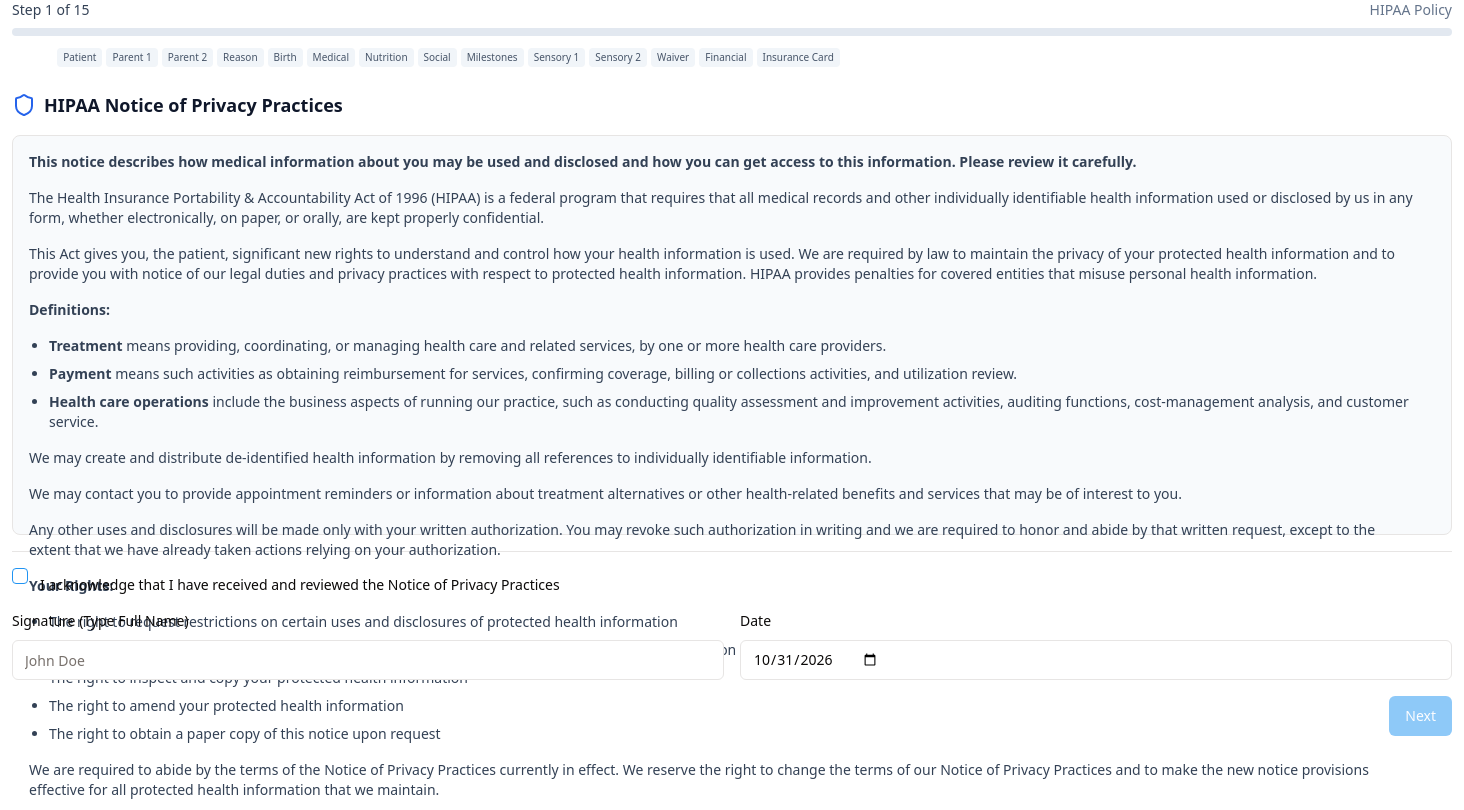
Test case: PatientIntakeForm › defaults the SMS consent checkbox to unchecked, with disclosure text visible
Click the checkbox: (20, 576) [12,568,28,584]
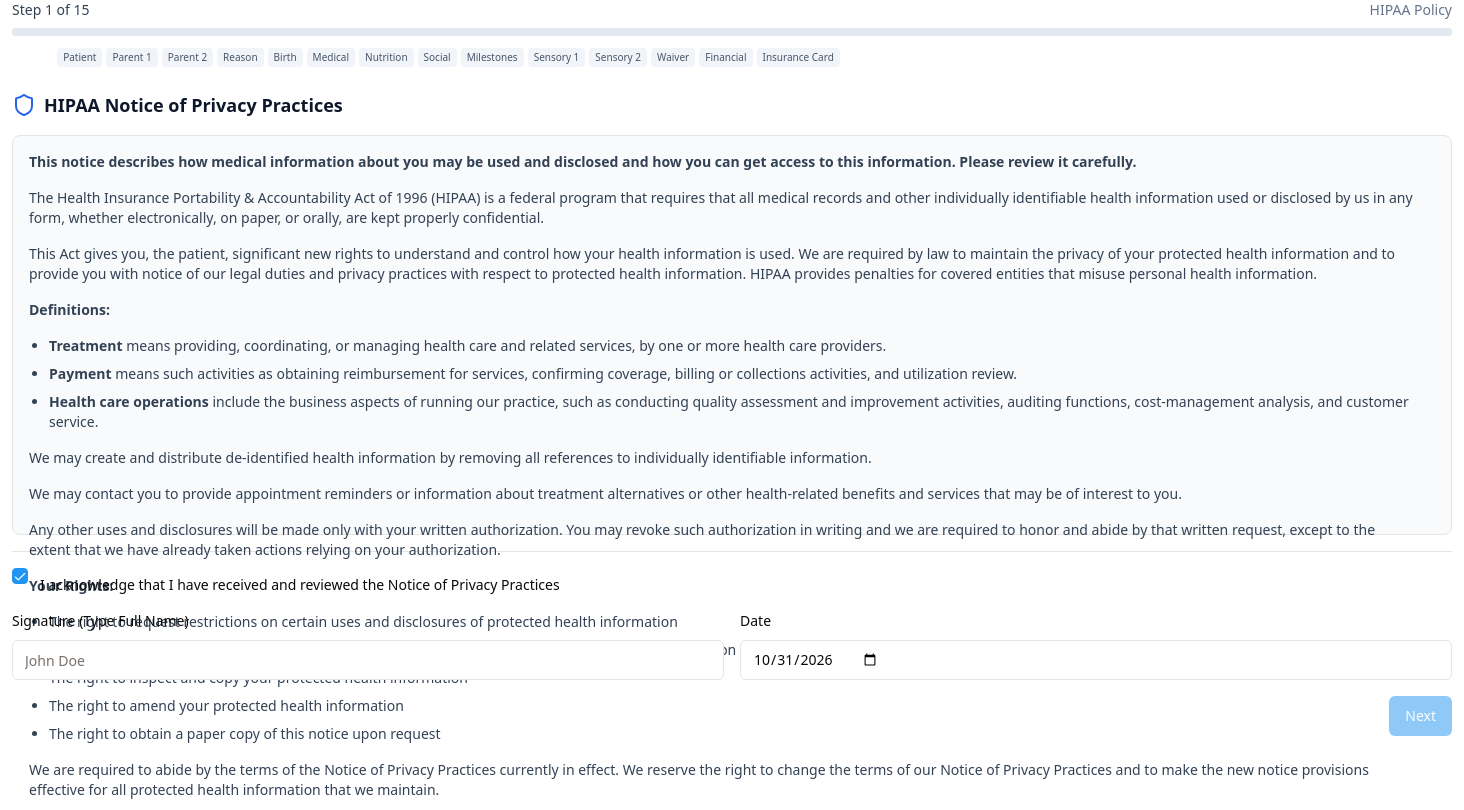
In the field with placeholder "John Doe": (368, 660) [12,640,724,680], type "Jane Smith"
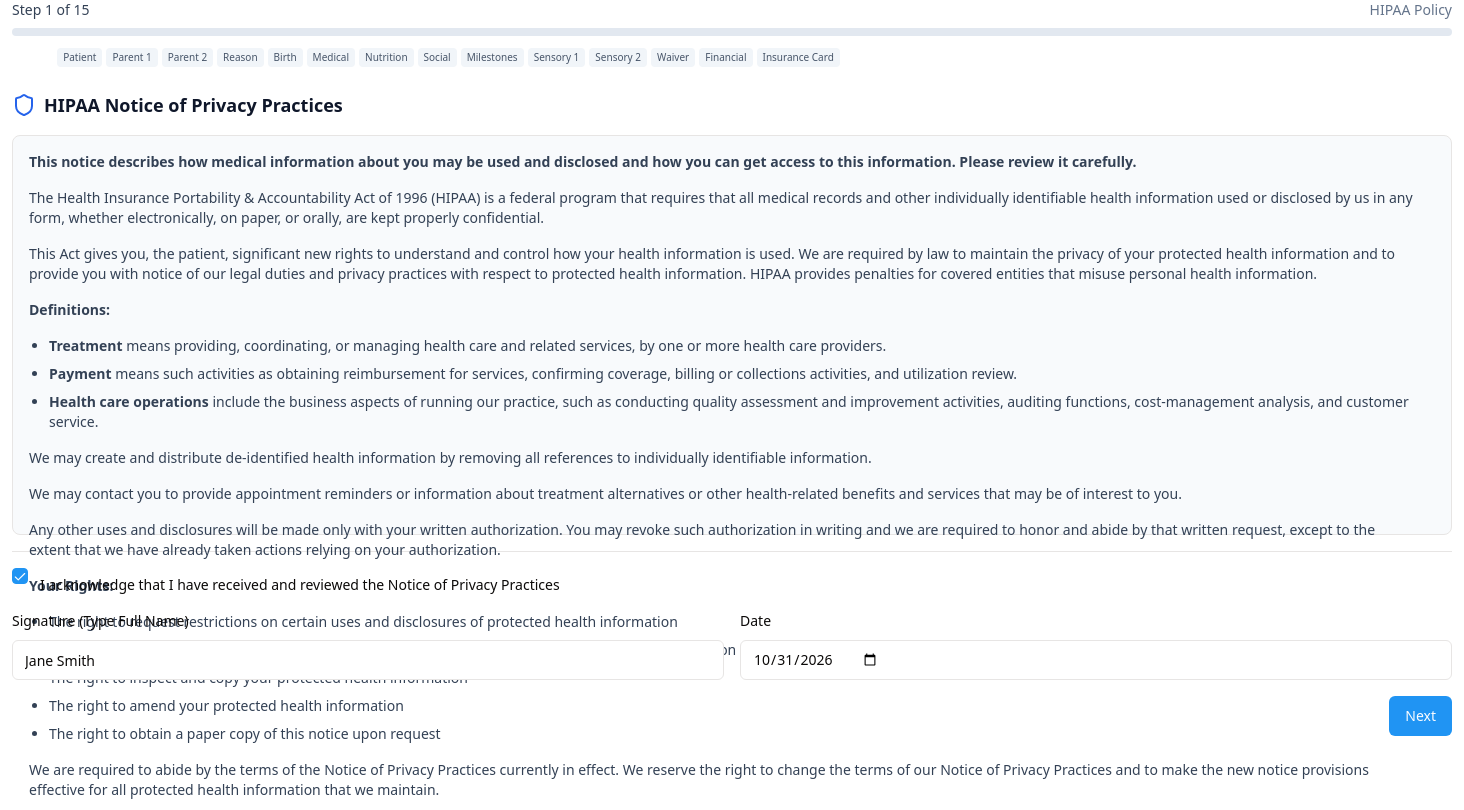
Click the button "Next": (1421, 716) [1389,696,1452,736]
(page scrolled)
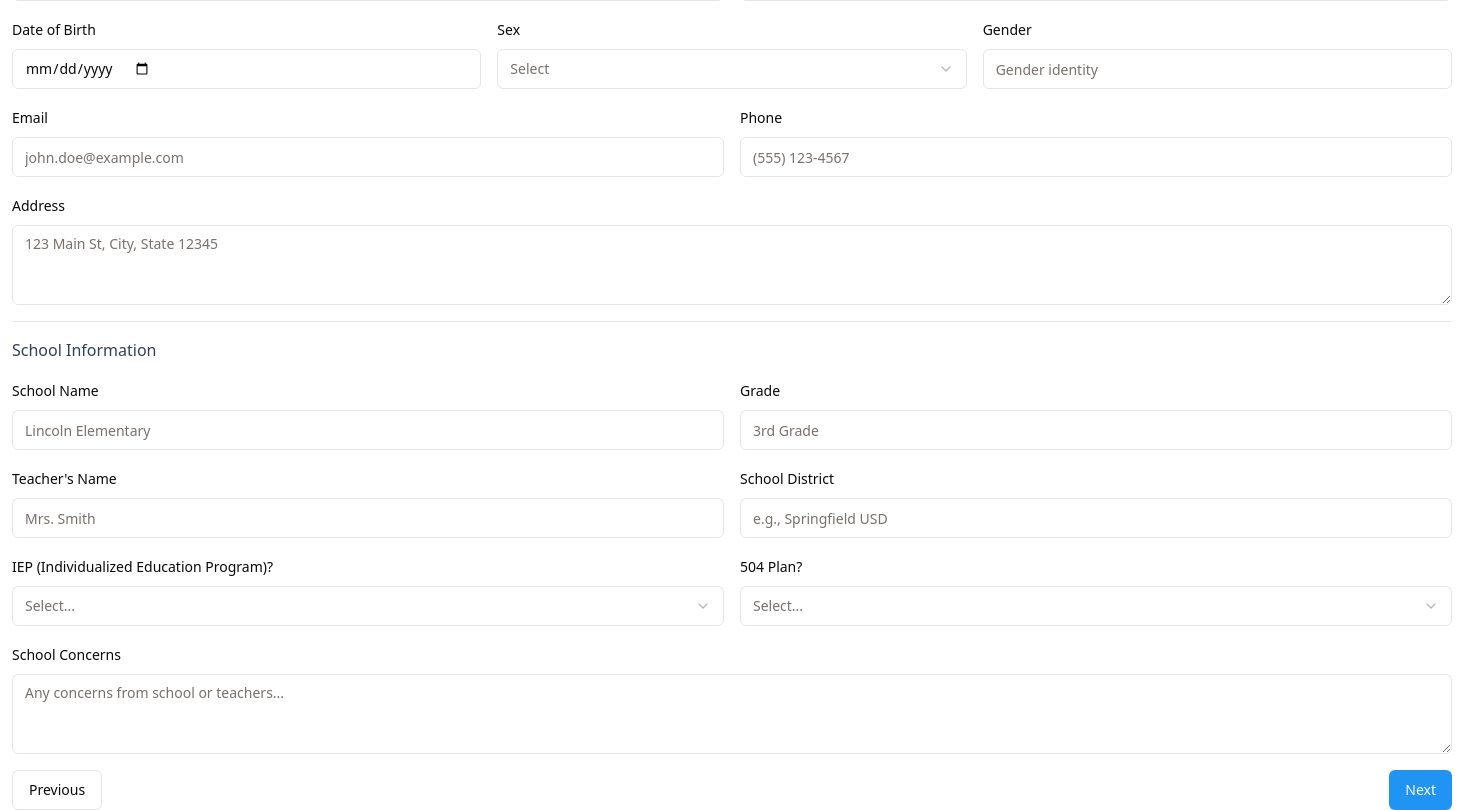
Click the button "Next": (1421, 790) [1389,770,1452,809]
(page scrolled)
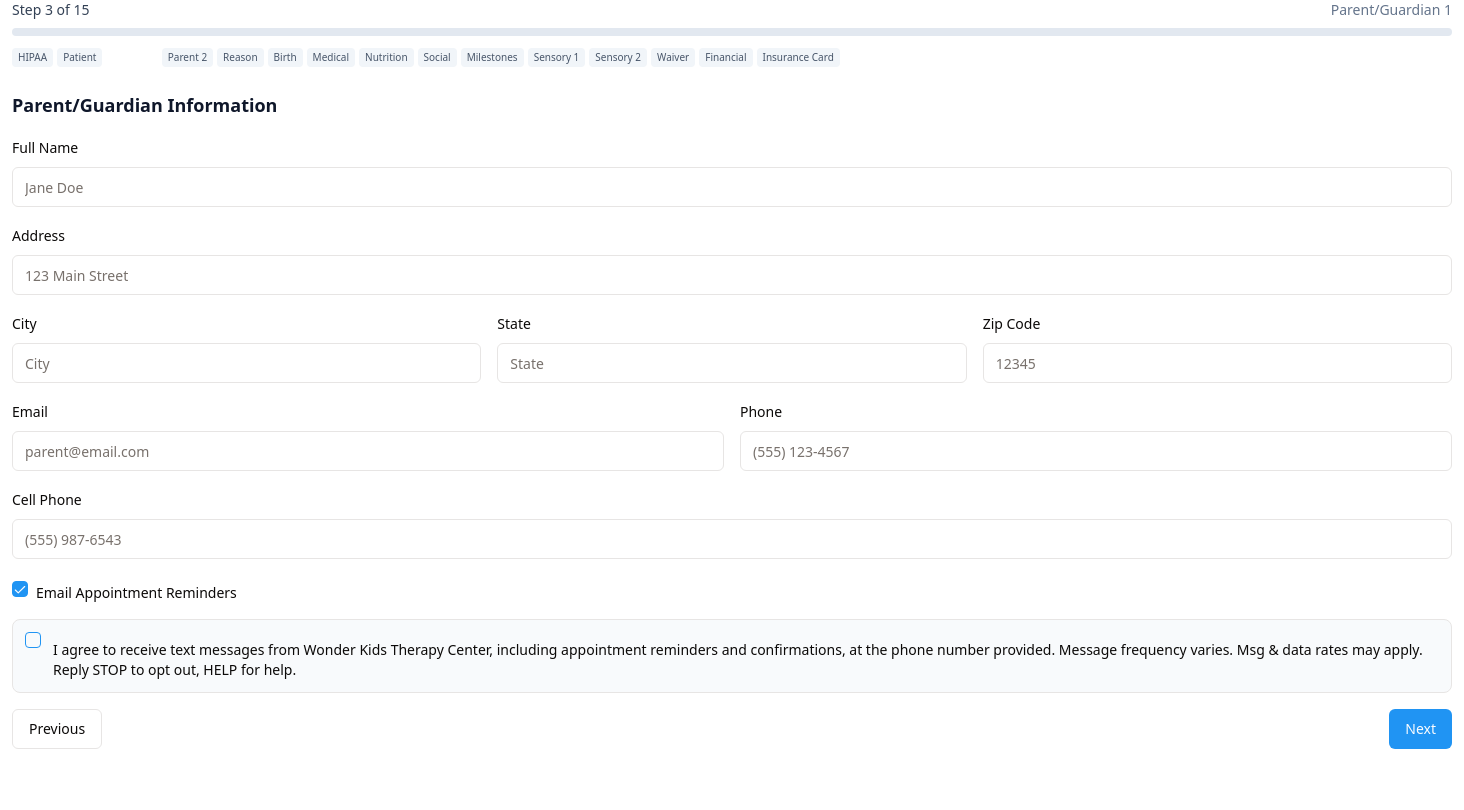
Now the text "Step 3 of 15" is shown, box [12,0,90,20]
Now the checkbox with test id "checkbox-sms-consent" is not checked, box [25,632,41,648]
Now the text "Reply STOP to opt out" is shown, box [53,640,1423,679]
